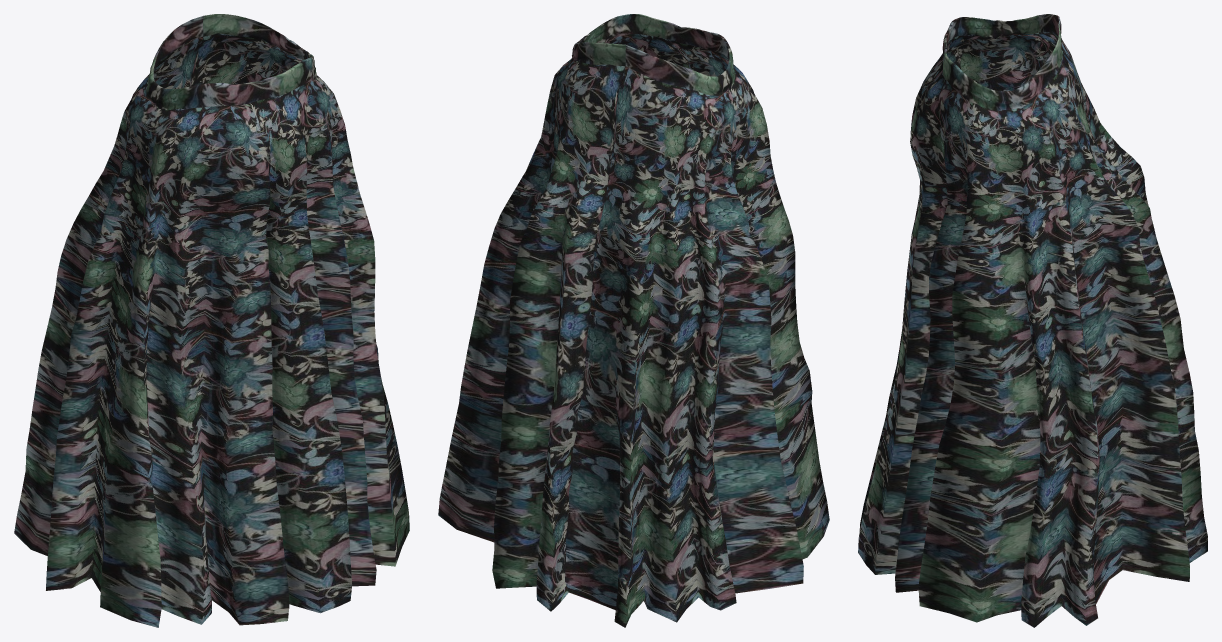
File: bottom_long_skirt.gltf
3 views of the same model, side by side, from view 1: azimuth 30°, elevation 25°; view 2: azimuth 150°, elevation 25°; view 3: azimuth 270°, elevation 25° (orthographic). The views are drawn at different scales.
Visible parts, largest first — view 1: bottom_long_skirt; view 2: bottom_long_skirt; view 3: bottom_long_skirt.
Part boxes in pixels (<box>): bottom_long_skirt: <box>14,14,409,627</box>; bottom_long_skirt: <box>438,14,829,627</box>; bottom_long_skirt: <box>858,14,1207,627</box>.
Bounding box in the file's own units: 0.6732 × 0.9952 × 0.5874.
Materials: 1 (1 with a texture image).
